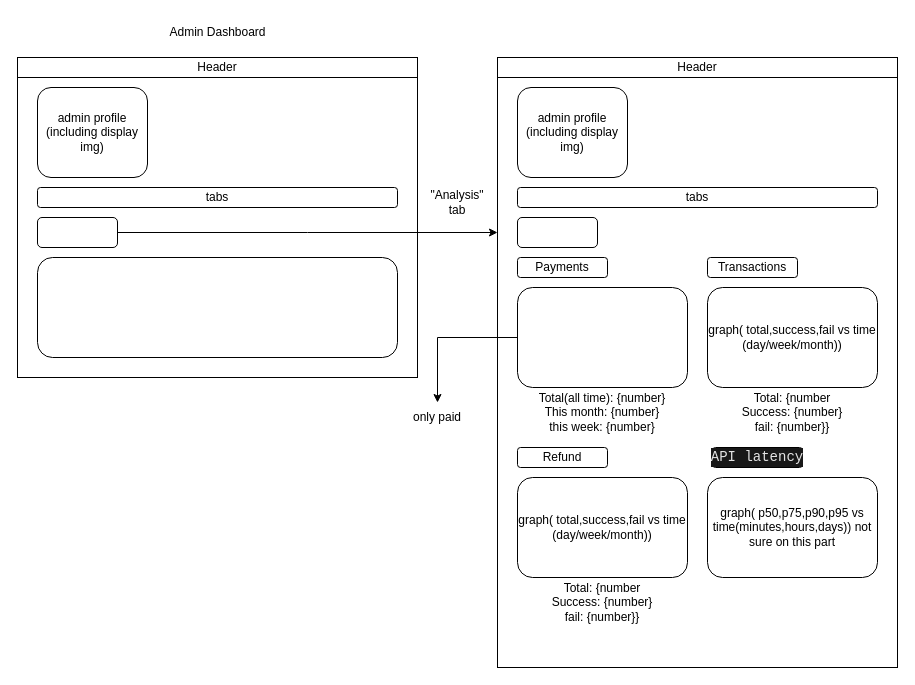
Image size: 915x685. Some labels were removed from this diagram. Each missing label, with the centre of its shape:
Analysis: the point at 557,232
graph(total amount each day vs time(can scaling day/week/month)): the point at 602,337
table: the point at 217,307
{Current tab}: the point at 77,232
